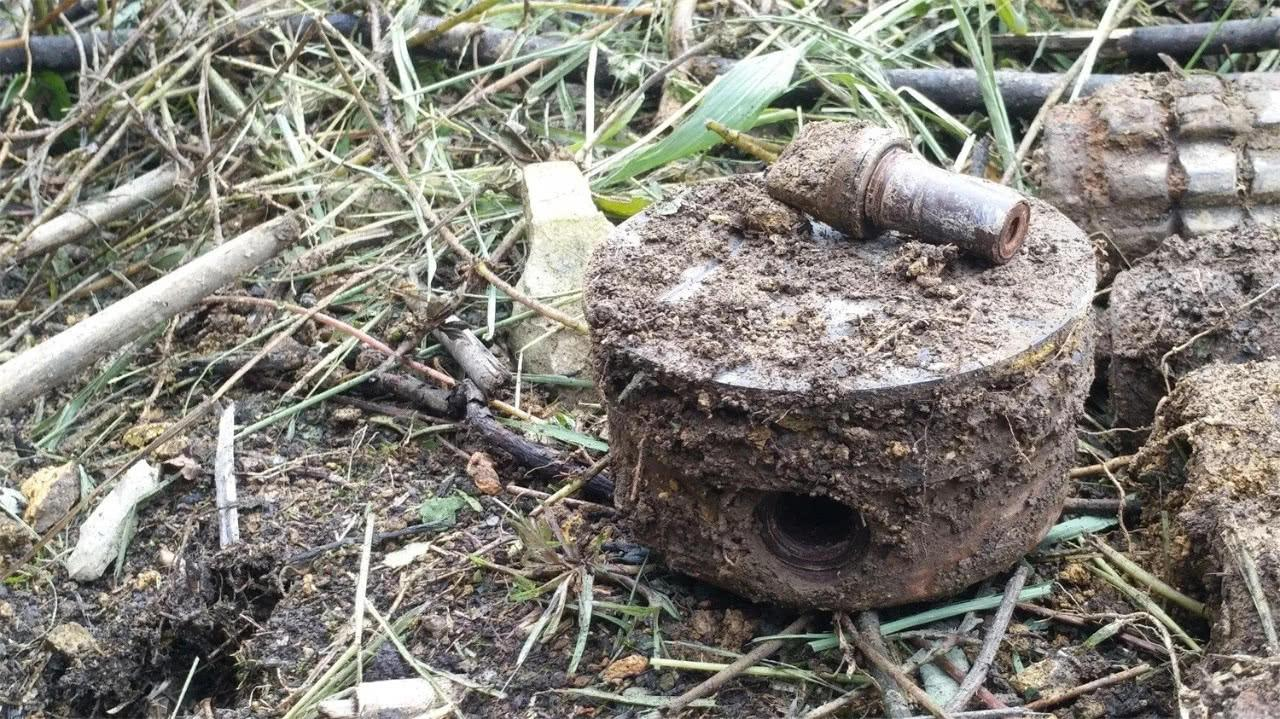pmn: (575, 156, 1099, 619)
